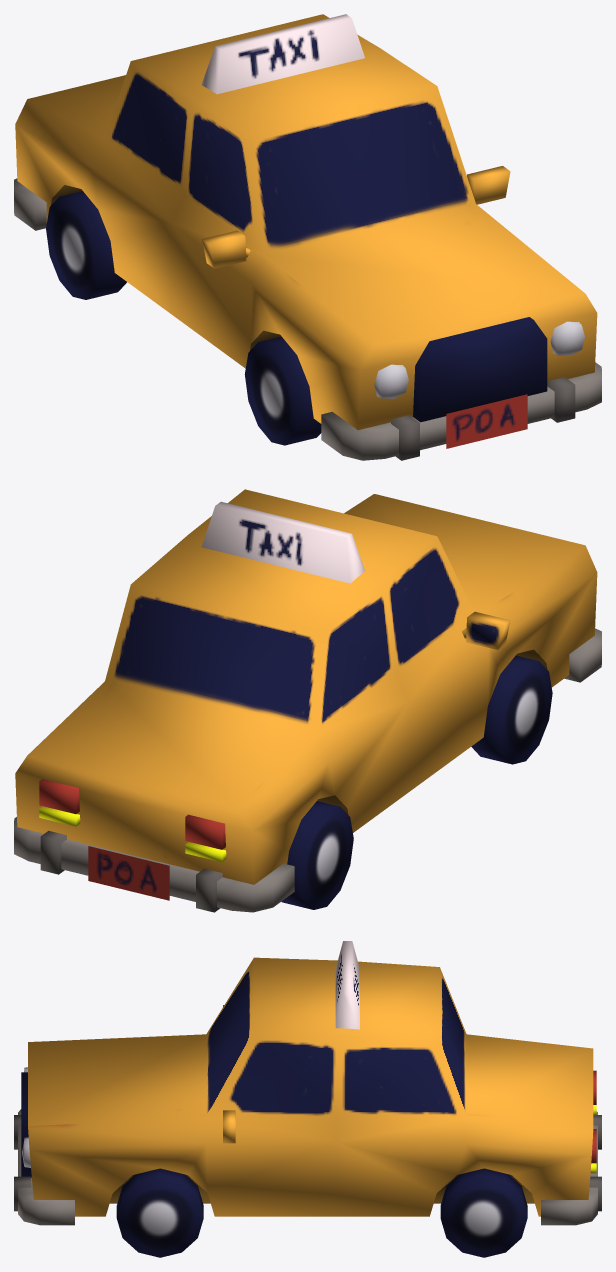
Rendered from Carro_4.glb.
3 views of the same model, one above another, from view 1: azimuth 30°, elevation 25°; view 2: azimuth 150°, elevation 25°; view 3: azimuth 270°, elevation 25° (orthographic). The views are drawn at different scales.
Parts seen in each view (by area): view 1: Taxi; view 2: Taxi; view 3: Taxi.
Part boxes in pixels (x1,y1,x2,y2): Taxi: (14, 14, 601, 460); Taxi: (14, 489, 601, 912); Taxi: (14, 941, 601, 1257).
Bounding box in the file's own units: 2.85 × 2.67 × 5.92.
1 material, 1 textured.
